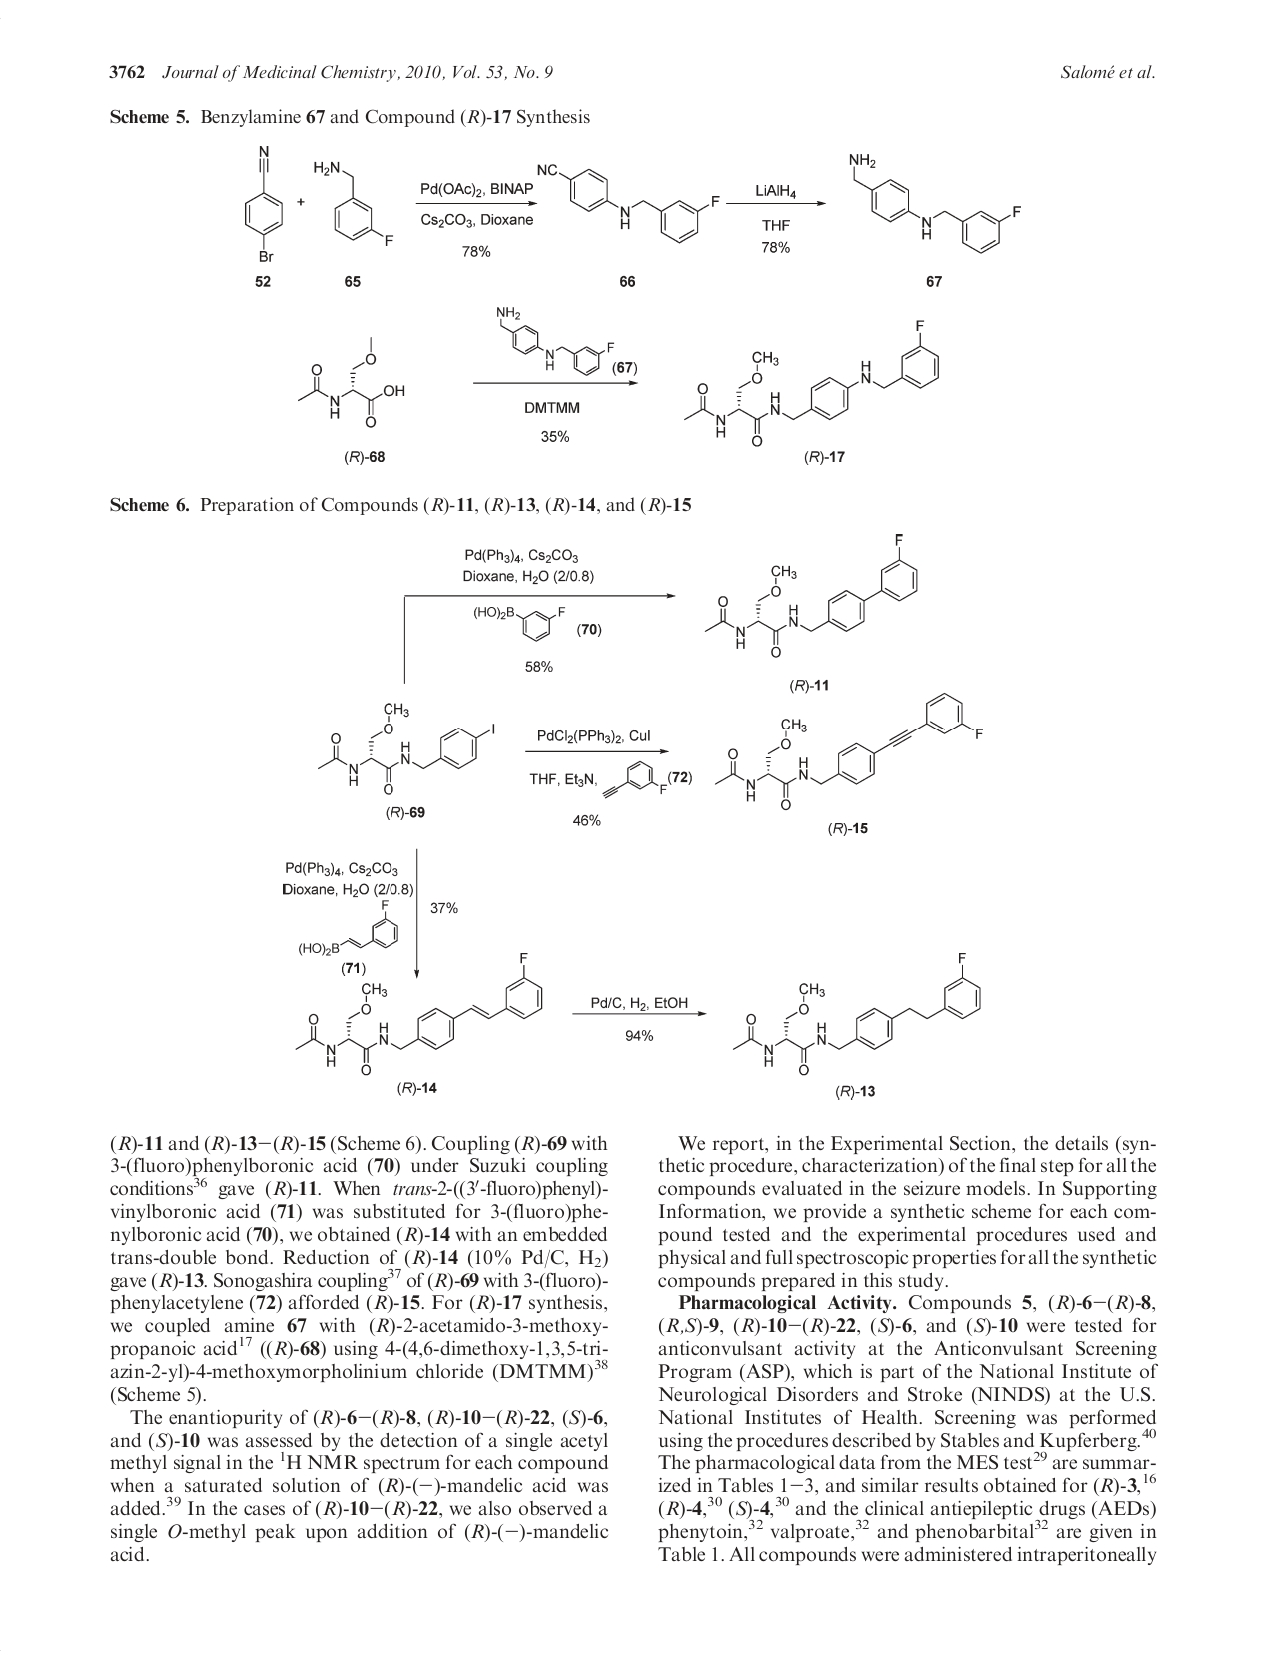exist_molecular: (726, 942, 989, 1076), (287, 950, 552, 1080), (678, 317, 948, 443), (709, 686, 983, 809), (699, 531, 928, 666), (842, 144, 1025, 255), (314, 702, 500, 798), (531, 156, 723, 245), (293, 332, 410, 434), (302, 150, 408, 251), (485, 297, 616, 379), (297, 896, 404, 967), (239, 140, 283, 270), (461, 598, 576, 648)
